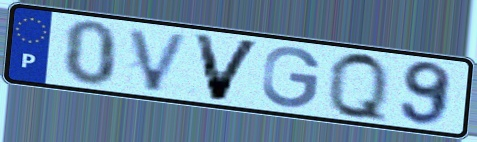0: (56, 17, 122, 88)
9: (399, 59, 457, 130)
G: (259, 45, 324, 110)
Q: (326, 49, 391, 127)
V: (190, 30, 266, 104), (125, 25, 193, 94)
